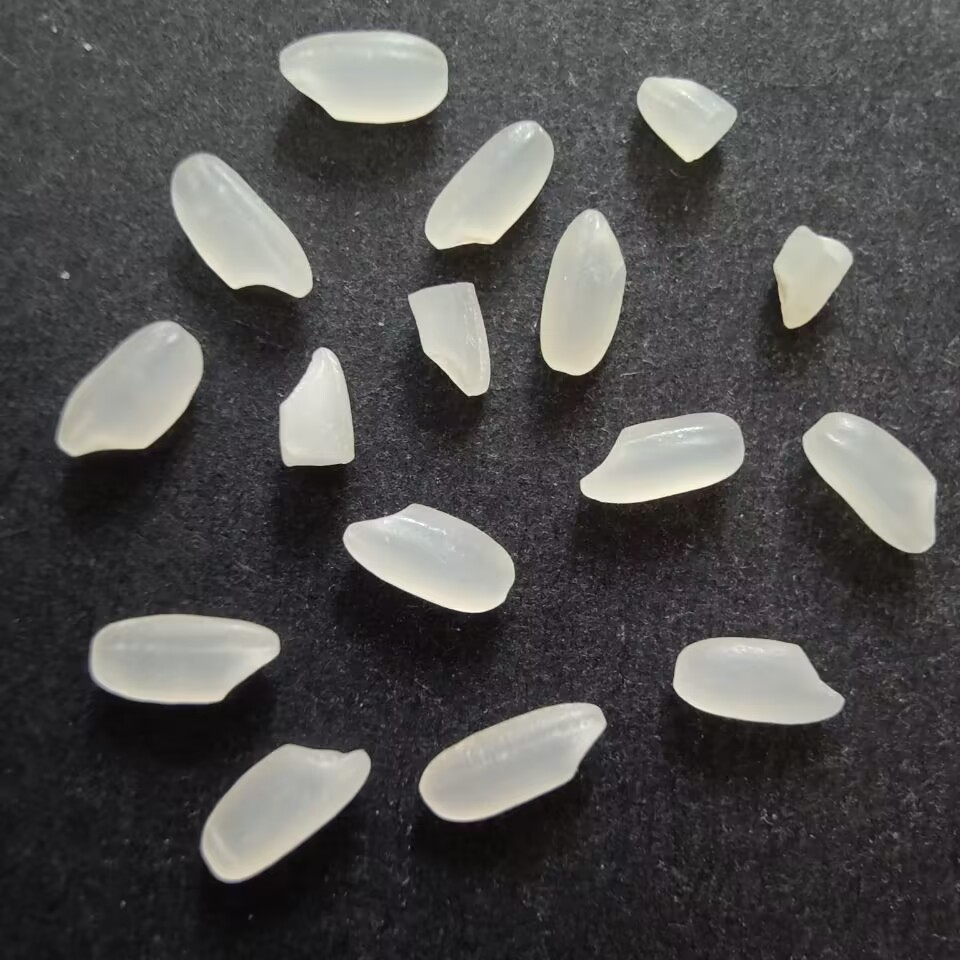broken: (402, 279, 493, 402), (274, 343, 358, 475), (634, 72, 740, 167), (771, 222, 858, 334)
rice: (198, 738, 371, 889), (416, 700, 611, 826), (165, 150, 316, 303), (52, 317, 206, 462), (335, 499, 519, 619), (801, 409, 940, 560), (85, 611, 284, 708), (419, 118, 558, 252), (274, 26, 449, 126), (669, 634, 850, 728), (536, 204, 630, 380), (575, 410, 747, 506)
